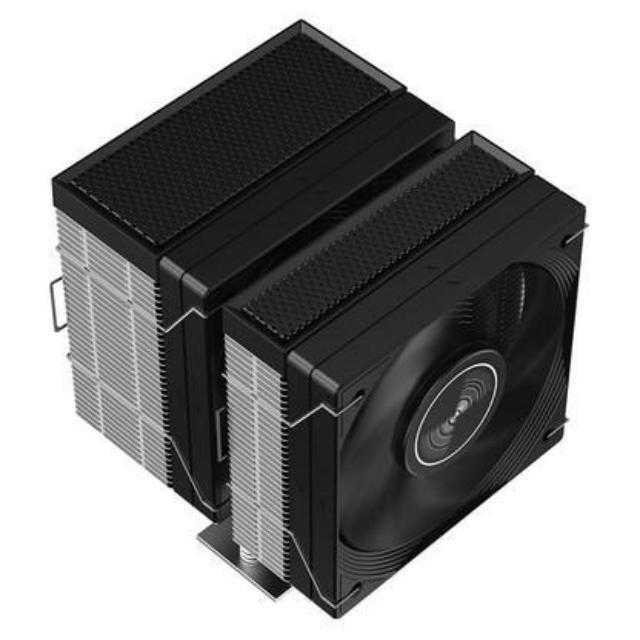CPU_Fan: (51, 19, 588, 614)
